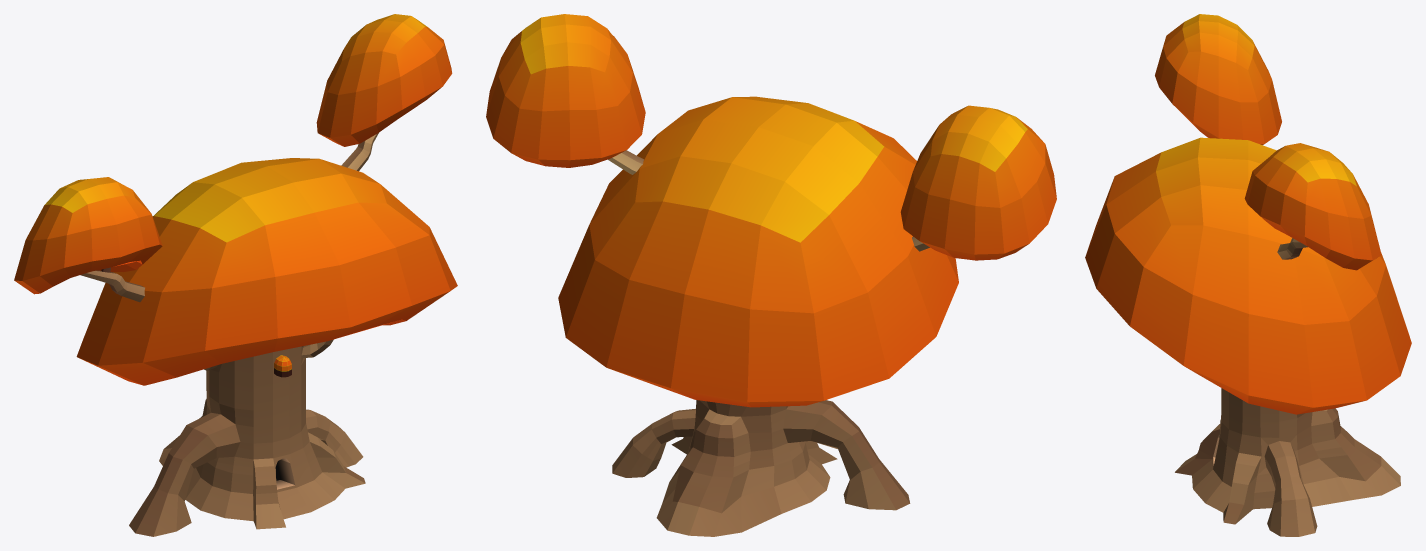
The model's file is TreeHome.fbx.
The picture shows the model from 3 angles, left to right: view 1: azimuth 30°, elevation 25°; view 2: azimuth 150°, elevation 25°; view 3: azimuth 270°, elevation 25°; orthographic projection. The views are drawn at different scales.
Parts seen in each view (by area): view 1: TreeHome_LOD0; view 2: TreeHome_LOD0; view 3: TreeHome_LOD0.
Boxes of the visible parts, x1,y1,x2,y2 form: TreeHome_LOD0: (14, 14, 457, 536); TreeHome_LOD0: (486, 14, 1056, 536); TreeHome_LOD0: (1085, 14, 1411, 536).
Size of what is drawn, in the model's own units: 1603 by 1347 by 978.
